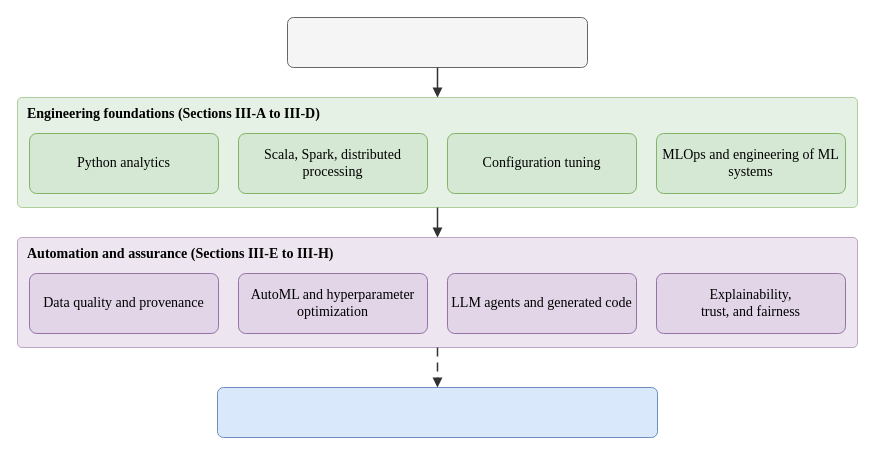
Some shapes in this 875 by 455 pixel diagram are drawn without their labels. The shapes that lost their labels are listed below. From the top down, each one's centre as x and y in pixels, then its label:
At point (437, 42): "Agentic data science programming".
At point (437, 412): "Application: customer churn prediction (Section III-I)".
